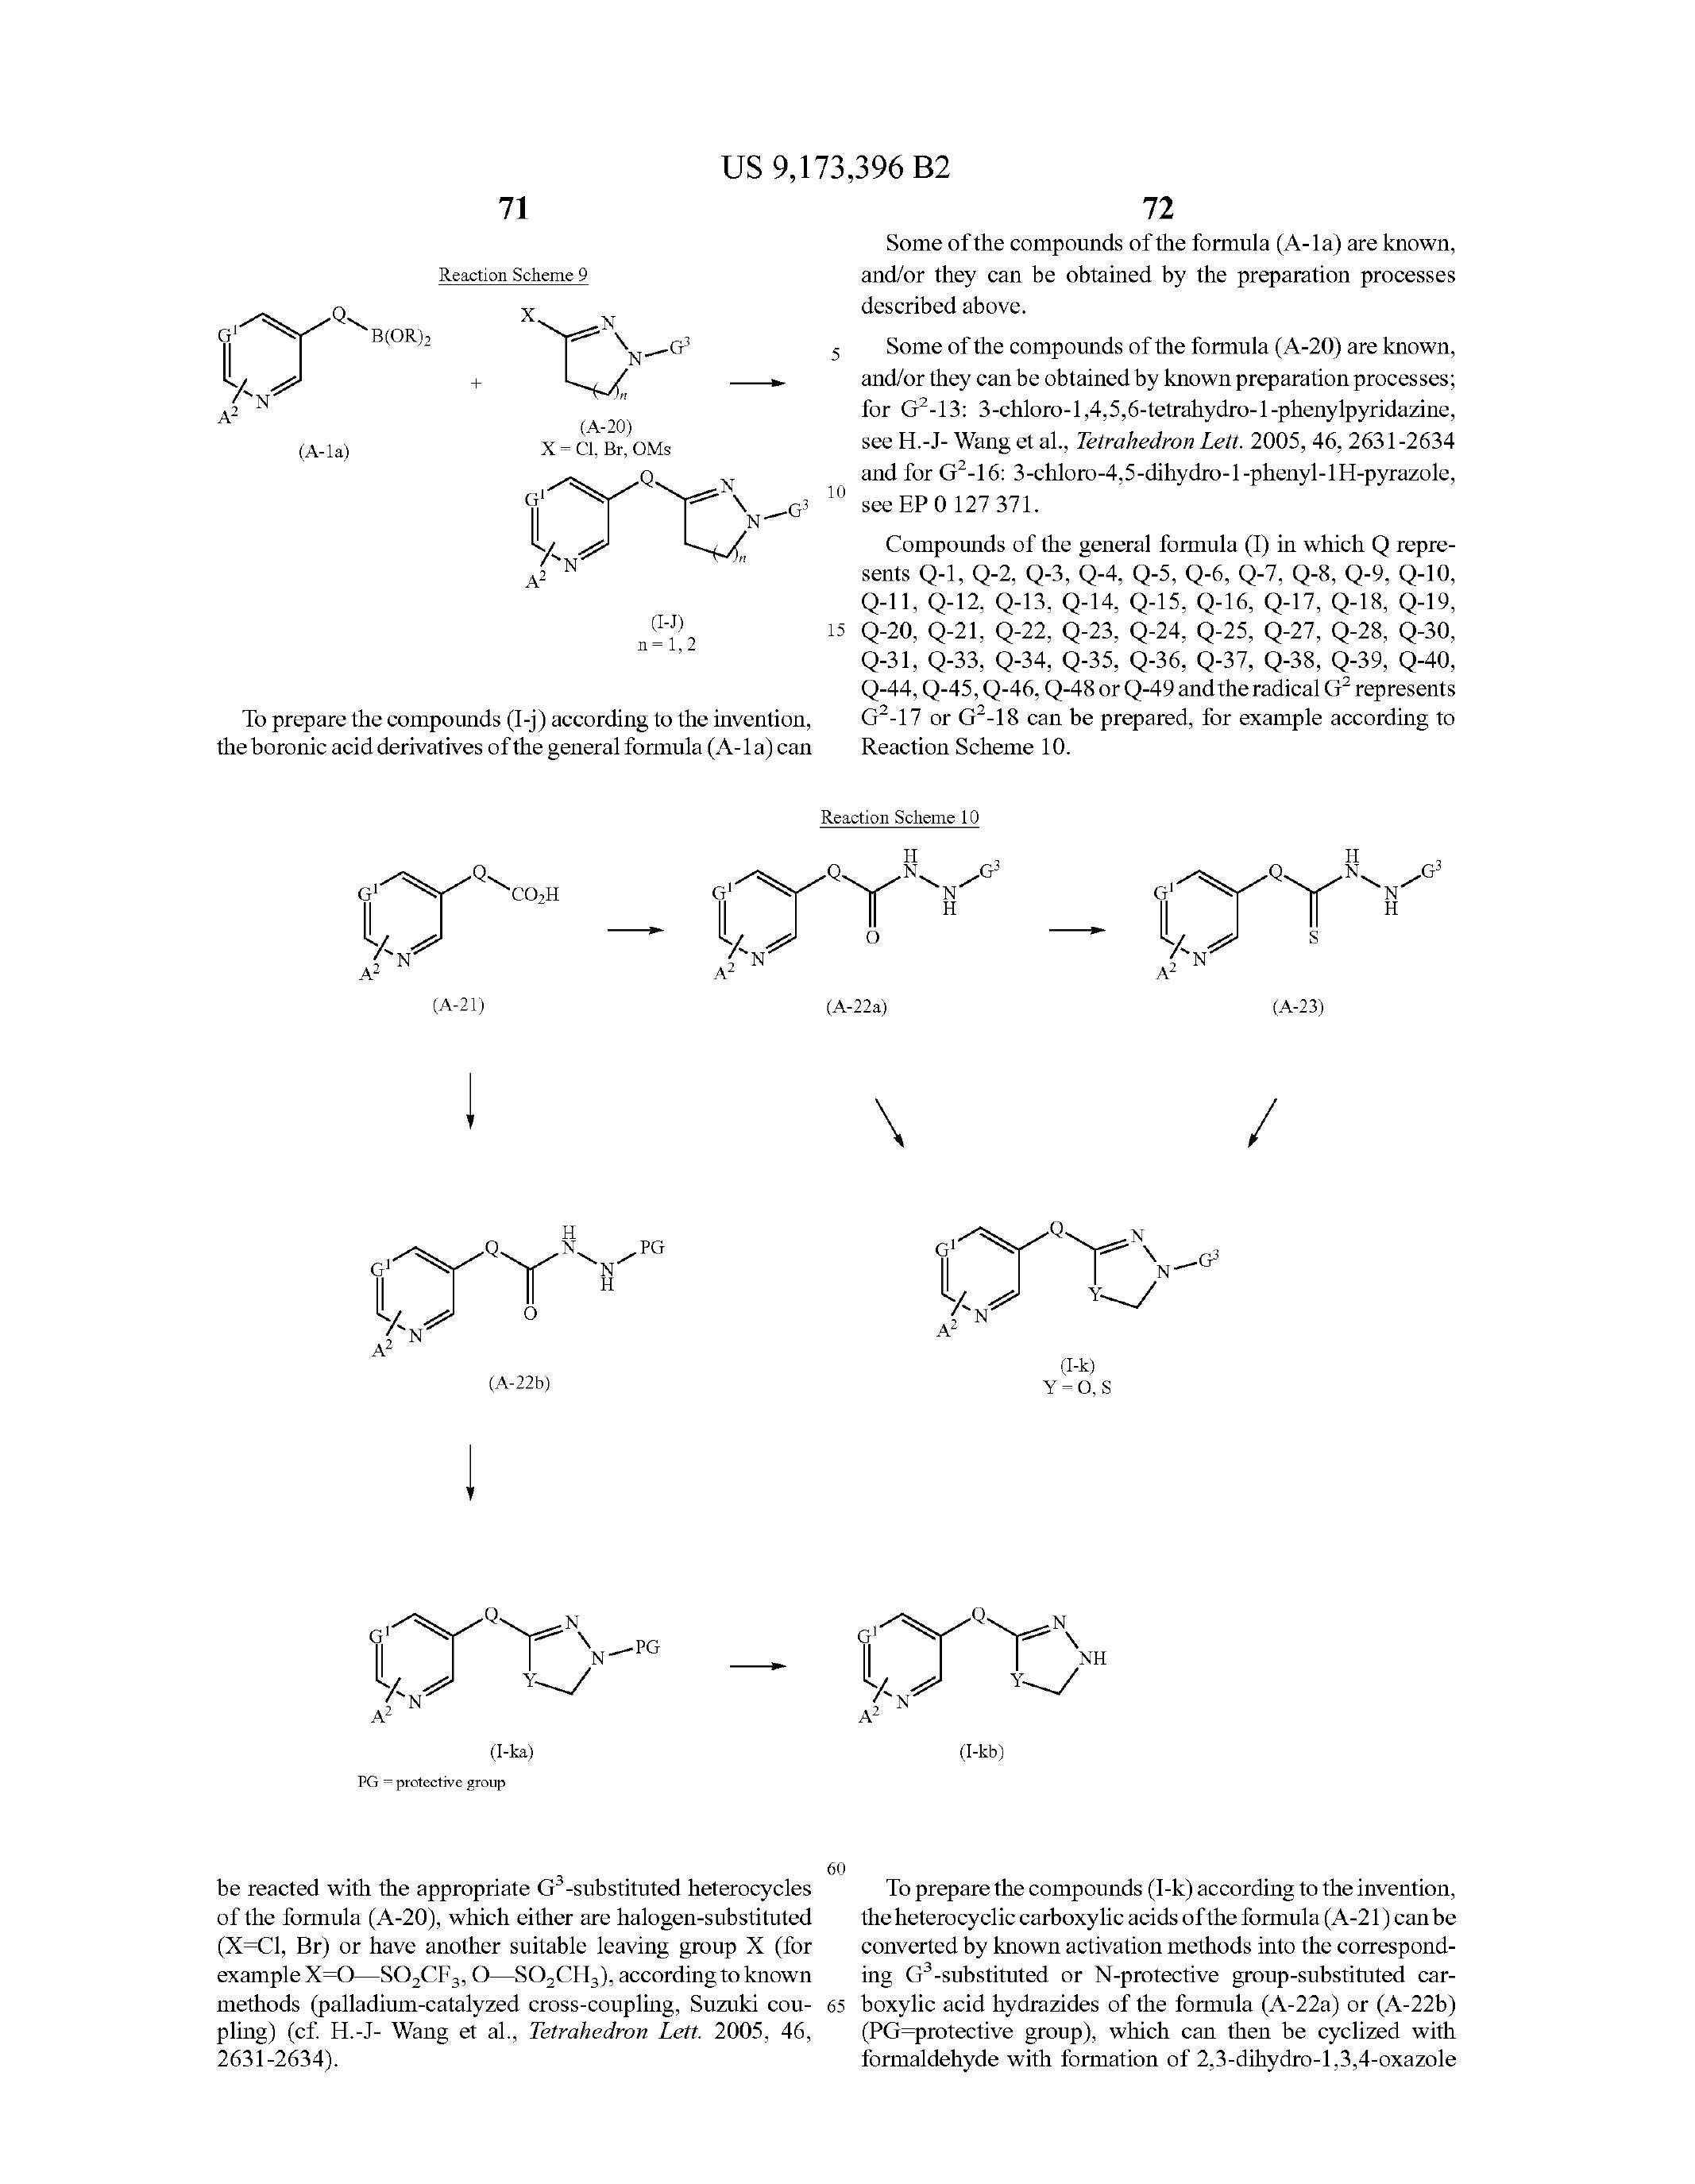reactions: (206, 799, 1470, 1409), (115, 152, 808, 624)
